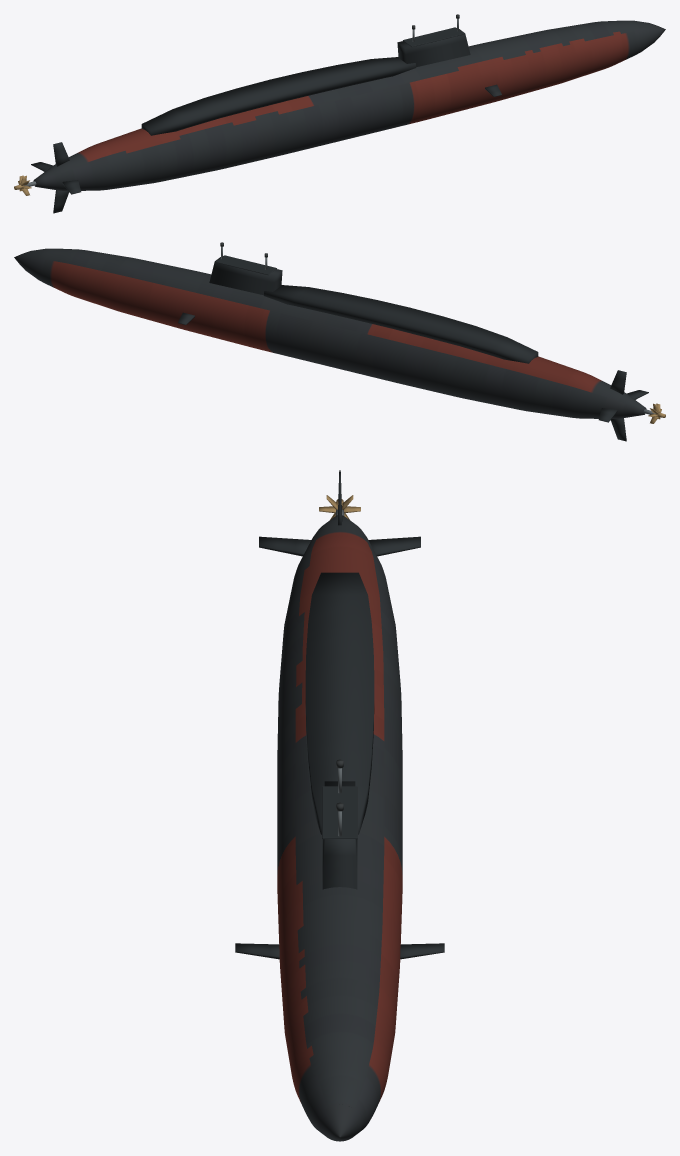
The model's file is US_SSBN_GeorgeWashington.glb.
3 views of the same model, one above another, from view 1: azimuth 30°, elevation 25°; view 2: azimuth 150°, elevation 25°; view 3: azimuth 270°, elevation 25° (orthographic). The views are drawn at different scales.
Visible parts, largest first — view 1: US_SSBN_GeorgeWashington_LOD0; view 2: US_SSBN_GeorgeWashington_LOD0; view 3: US_SSBN_GeorgeWashington_LOD0.
Part boxes in pixels (bbox=[...]): US_SSBN_GeorgeWashington_LOD0: bbox=[14, 14, 665, 213]; US_SSBN_GeorgeWashington_LOD0: bbox=[14, 242, 665, 441]; US_SSBN_GeorgeWashington_LOD0: bbox=[235, 470, 444, 1141].
Size of the model in its own units: 120 by 17.53 by 16.71.
6 materials, 1 textured.
